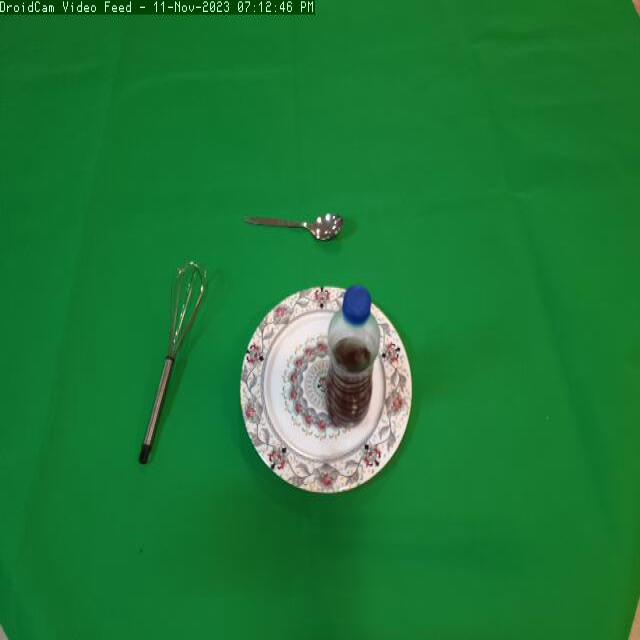fullbottle: (318, 281, 387, 434)
plate: (235, 281, 420, 510)
spoon: (238, 199, 350, 256)
whisk: (121, 250, 220, 468)
